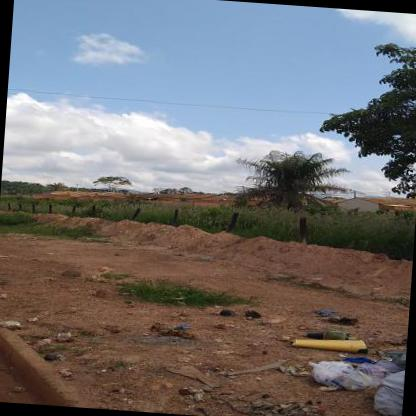lixo: (285, 330, 407, 413)
